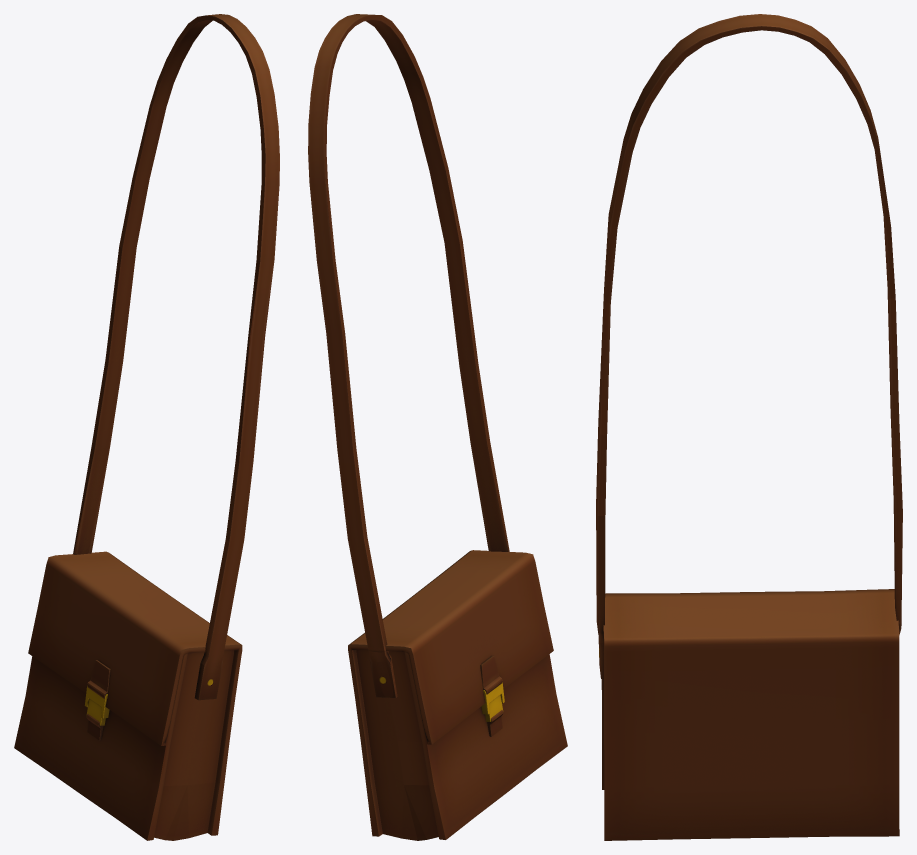
Rendered from Female_Brown_Little_Shoulder_Bag.glb.
3 views of the same model, side by side, from view 1: azimuth 30°, elevation 25°; view 2: azimuth 150°, elevation 25°; view 3: azimuth 270°, elevation 25° (orthographic). The views are drawn at different scales.
Parts seen in each view (by area): view 1: ShoulderBag_ShoulderBagMaterial_0; view 2: ShoulderBag_ShoulderBagMaterial_0; view 3: ShoulderBag_ShoulderBagMaterial_0.
Boxes of the visible parts, x1,y1,x2,y2 form: ShoulderBag_ShoulderBagMaterial_0: (14, 14, 279, 840); ShoulderBag_ShoulderBagMaterial_0: (308, 14, 567, 840); ShoulderBag_ShoulderBagMaterial_0: (596, 14, 902, 840).
Bounding box in the file's own units: 0.1592 × 0.689 × 0.2209.
1 material, 1 textured.
